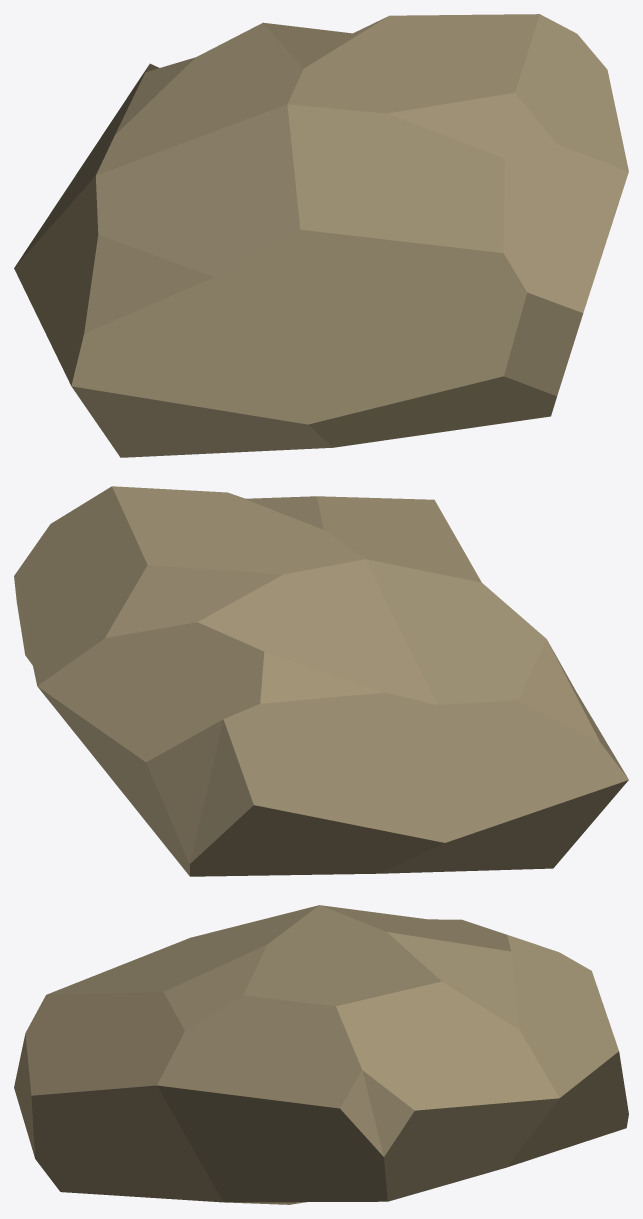
Rendered from Rock.fbx.
3 renders of one model, top to bottom at view 1: azimuth 30°, elevation 25°; view 2: azimuth 150°, elevation 25°; view 3: azimuth 270°, elevation 25°, orthographic. The views are drawn at different scales.
Parts seen in each view (by area): view 1: Rock; view 2: Rock; view 3: Rock.
Boxes of the visible parts, x1,y1,x2,y2 form: Rock: (14,14,628,457); Rock: (14,486,628,876); Rock: (14,905,628,1204).
Size of the model in its own units: 1.28 by 0.6606 by 1.23.
